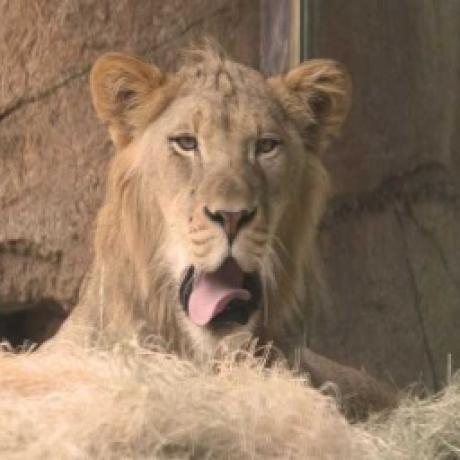Lion: (32, 42, 417, 413)
